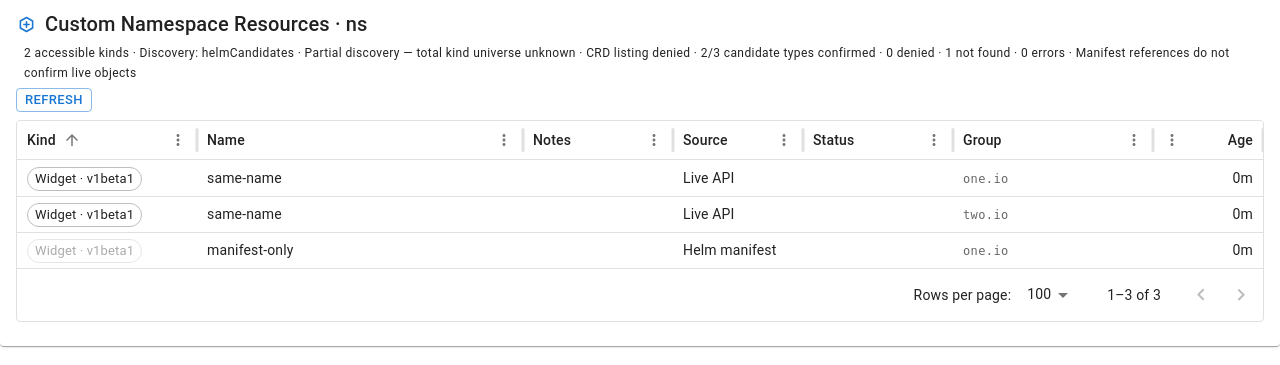
Test: mounted exact-kind navigation › enters from the real aggregate (cluster=false), separates colliding groups, and returns
Expected: the text "total kind universe unknown" is shown, [294,46,576,60]
Click the button "Widget · v1beta1" in the row of "two.io" at (85, 215), box [27,203,142,227]
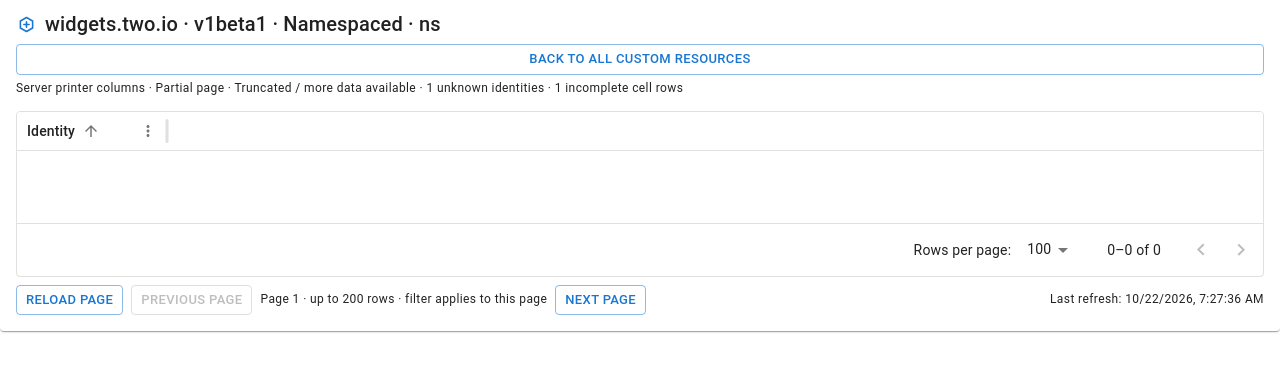
Expected: the text "Server printer columns" is shown, [16,81,145,95]
Expected: the text "total kind universe unknown" is gone
Click the button "Back to all custom resources" at (640, 59), box [16,44,1264,75]
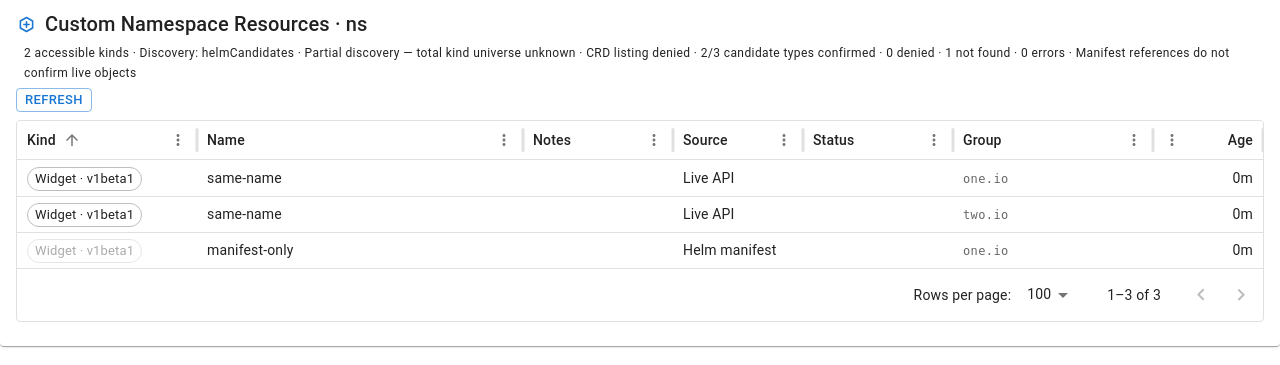
Expected: the text "manifest-only" is shown, [197,232,523,268]
Expected: the text "Server printer columns" is gone
